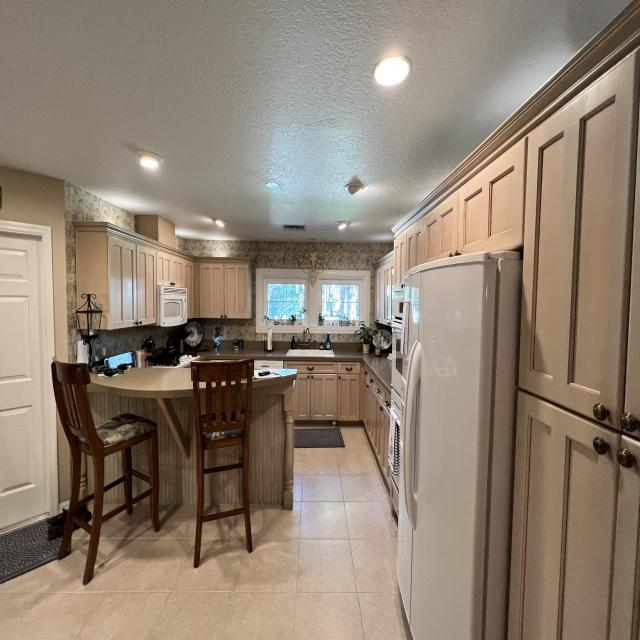Appliance_Fridge: (396, 247, 523, 640)
Appliance_Microwave: (158, 285, 188, 326)
Appliance_Oven: (388, 290, 405, 514)
Appliance_Sink: (290, 329, 333, 351)
Cabinet_Shaker: (375, 0, 640, 640), (107, 228, 253, 329), (282, 356, 391, 482)
Countertop_Concrete: (333, 343, 391, 385), (199, 343, 288, 356)
